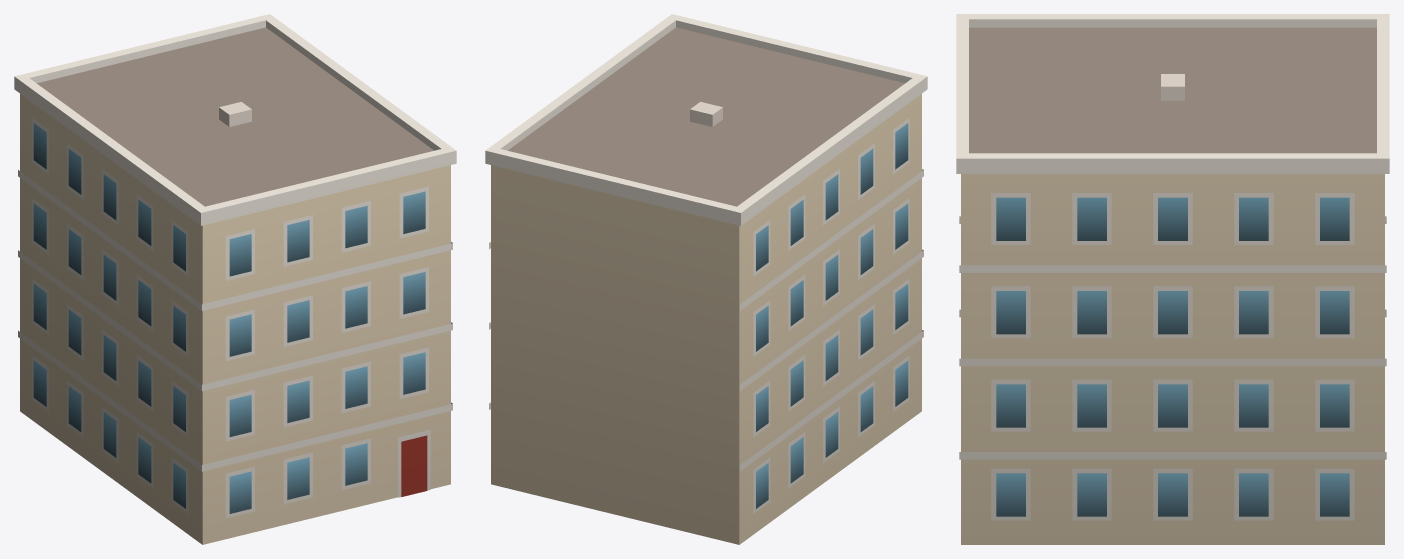
The model's file is boylston_s19_far.glb.
3 views of the same model, side by side, from view 1: azimuth 30°, elevation 25°; view 2: azimuth 150°, elevation 25°; view 3: azimuth 270°, elevation 25° (orthographic). The views are drawn at different scales.
Visible parts, largest first — view 1: boylston_s19_far; view 2: boylston_s19_far; view 3: boylston_s19_far.
Part boxes in pixels (<box>): boylston_s19_far: <box>14,14,456,544</box>; boylston_s19_far: <box>485,14,927,544</box>; boylston_s19_far: <box>956,14,1389,544</box>.
Size of the model in its own units: 11.32 by 14.37 by 14.32.
1 material, 1 textured.
